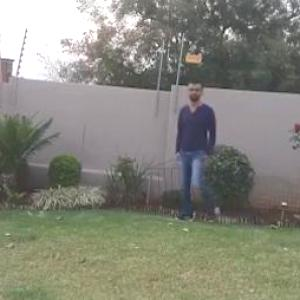follow: (170, 74, 226, 228)
